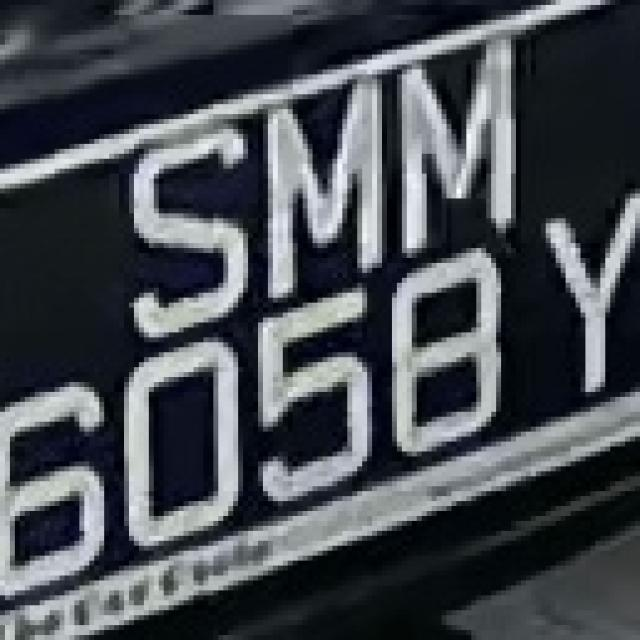0: (109, 342, 243, 561)
5: (243, 283, 377, 501)
6: (10, 367, 104, 615)
8: (392, 248, 511, 466)
M: (253, 70, 392, 298), (382, 30, 526, 248)
S: (124, 105, 258, 338)
Y: (531, 174, 640, 422)
